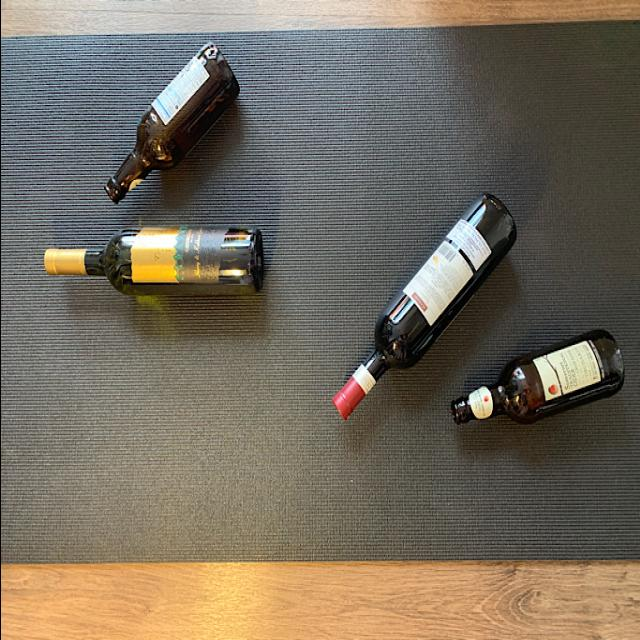Glass Bottle: (325, 190, 517, 421), (101, 42, 241, 210), (41, 222, 265, 308), (445, 327, 622, 428)
